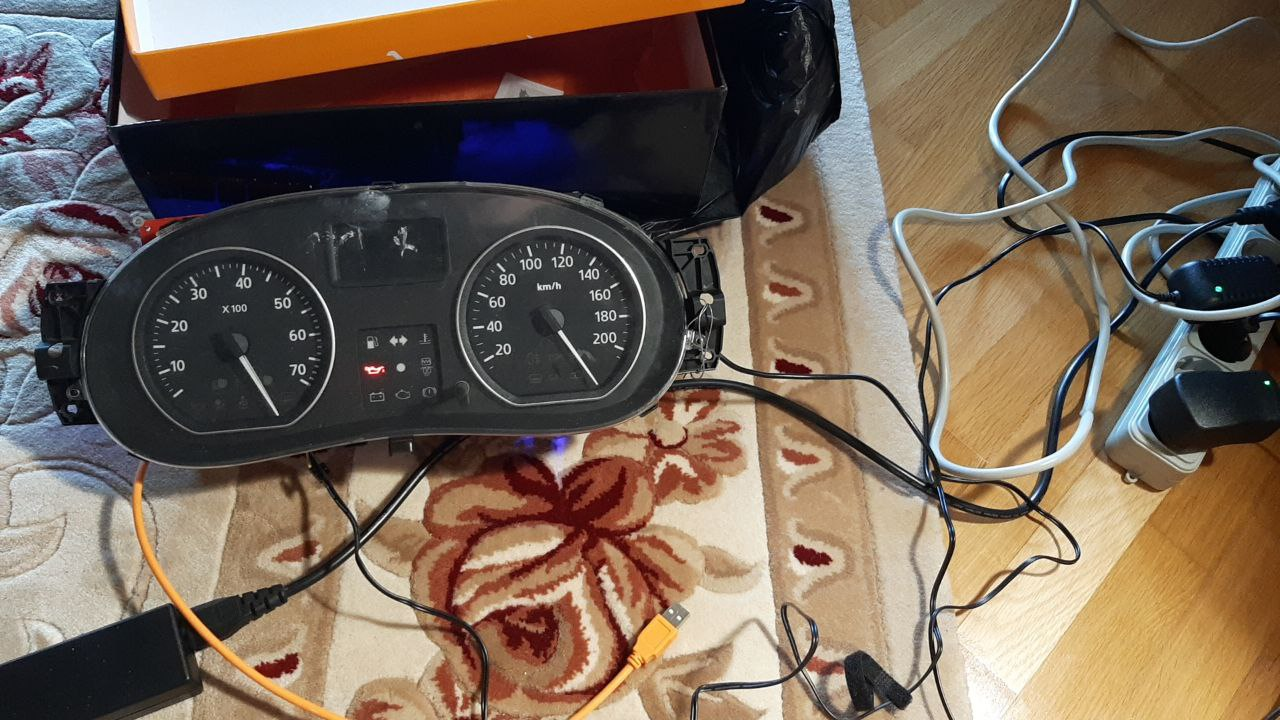oil: (361, 359, 389, 376)
